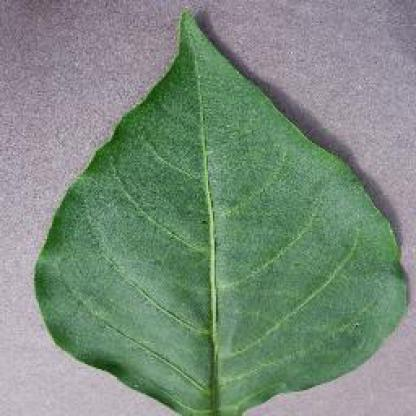good leaf: (34, 0, 415, 415)
